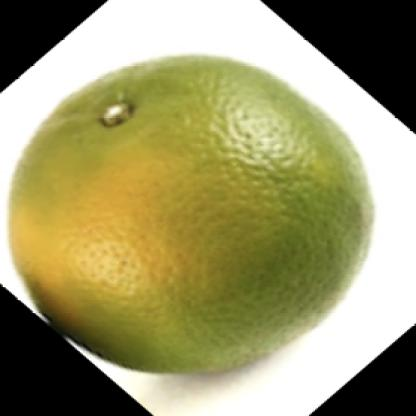fresh: (8, 55, 375, 376)
